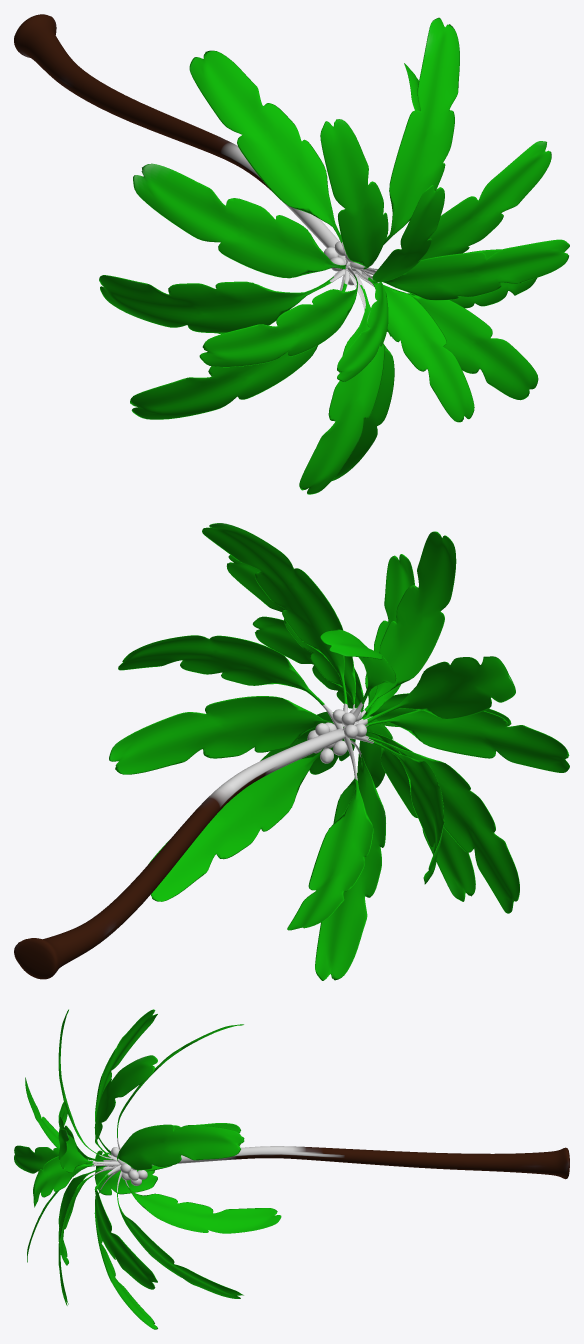
Rendered from Coqueiro.fbx.
3 views of the same model, one above another, from view 1: azimuth 30°, elevation 25°; view 2: azimuth 150°, elevation 25°; view 3: azimuth 270°, elevation 25° (orthographic). The views are drawn at different scales.
Parts seen in each view (by area): view 1: 10446_Palm_Tree_v1_max2010_iteration-2; view 2: 10446_Palm_Tree_v1_max2010_iteration-2; view 3: 10446_Palm_Tree_v1_max2010_iteration-2.
Part boxes in pixels (x1,y1,x2,y2): 10446_Palm_Tree_v1_max2010_iteration-2: (14,14,569,494); 10446_Palm_Tree_v1_max2010_iteration-2: (14,523,569,980); 10446_Palm_Tree_v1_max2010_iteration-2: (14,1009,569,1329).
Size of the model in its own units: 46562 by 46978 by 76581.
